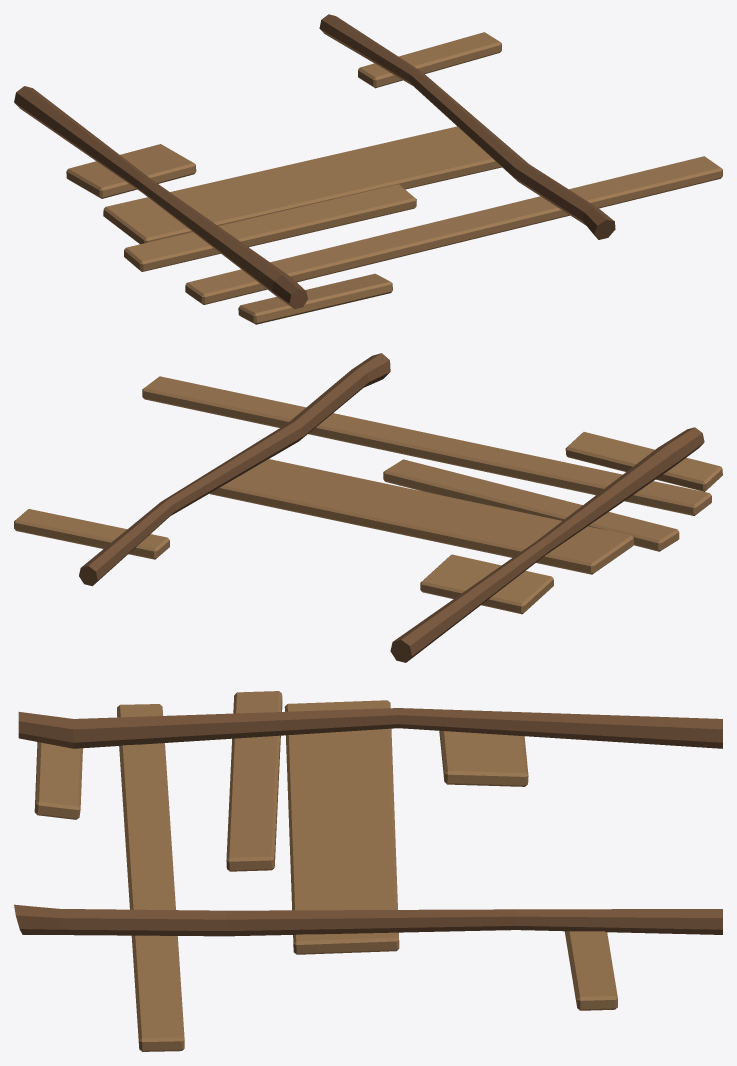
Rendered from Panel_22.fbx.
The picture shows the model from 3 angles, top to bottom: view 1: azimuth 30°, elevation 25°; view 2: azimuth 150°, elevation 25°; view 3: azimuth 270°, elevation 25°; orthographic projection. The views are drawn at different scales.
Parts seen in each view (by area): view 1: Poteau 2*6 bizzare LOW.002; view 2: Poteau 2*6 bizzare LOW.002; view 3: Poteau 2*6 bizzare LOW.002.
Boxes of the visible parts, <box> form: Poteau 2*6 bizzare LOW.002: <box>14,14,722,324</box>; Poteau 2*6 bizzare LOW.002: <box>14,353,722,662</box>; Poteau 2*6 bizzare LOW.002: <box>14,691,722,1051</box>.
Bounding box in the file's own units: 180 × 13.34 × 161.
